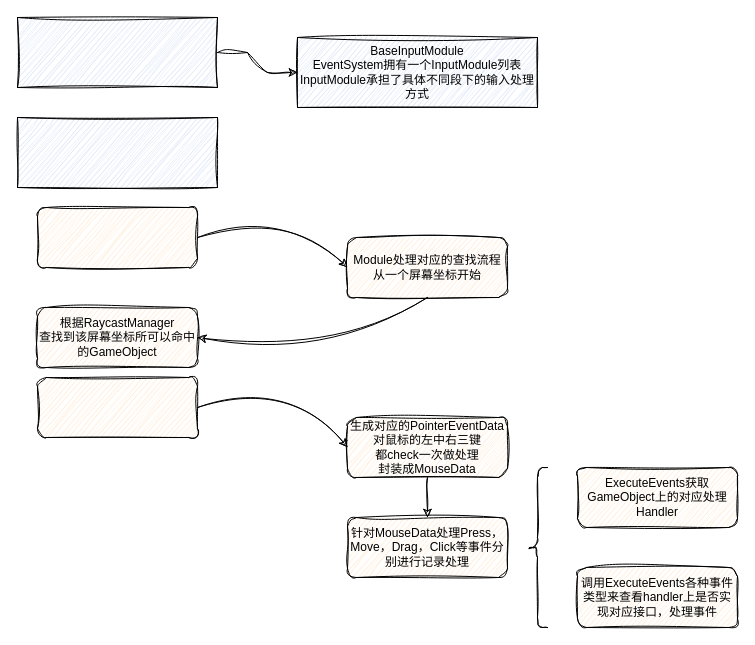
Some shapes in this 755 by 645 pixel diagram are drawn without their labels. Each missing label, with the centre of its shape:
EventSystem 消息分发中心: point 117,52
RaycastManager 可以射线检测的模块管理: point 117,152
Update中不断检测激活的Module以及对应module处理: point 117,237
按照Depth排好顺序 以返回的第一个Gameobject 作为命中目标: point 117,407
